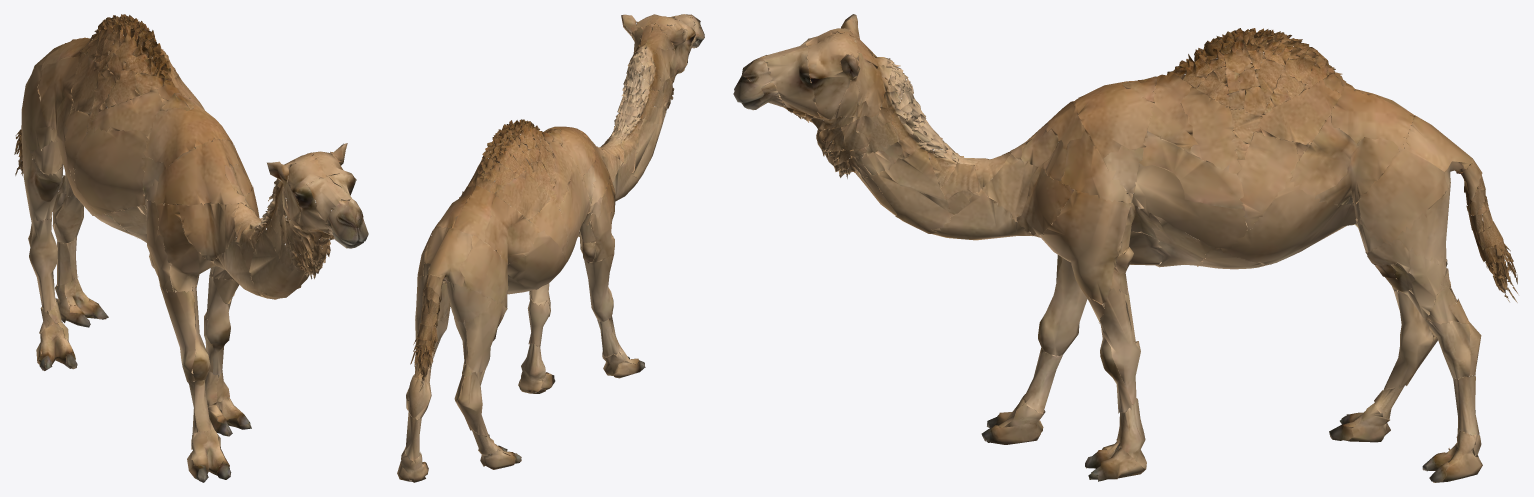
Rendered from camel.glb.
The picture shows the model from 3 angles, left to right: view 1: azimuth 30°, elevation 25°; view 2: azimuth 150°, elevation 25°; view 3: azimuth 270°, elevation 25°; orthographic projection. The views are drawn at different scales.
Parts seen in each view (by area): view 1: Mesh_0; view 2: Mesh_0; view 3: Mesh_0.
Part boxes in pixels (x1,y1,x2,y2): Mesh_0: (14,14,368,482); Mesh_0: (397,14,704,482); Mesh_0: (733,14,1518,482).
Bounding box in the file's own units: 0.018 × 0.0502 × 0.084.
1 material, 1 textured.
